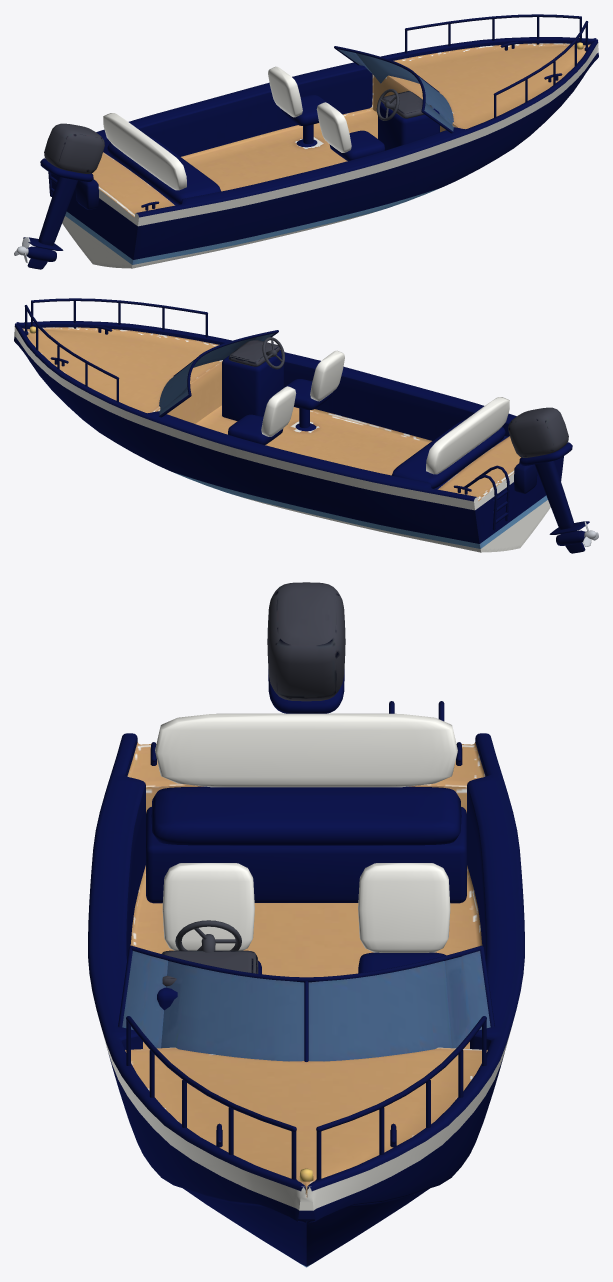
File: lancha-mestra-198-2015.glb
3 views of the same model, one above another, from view 1: azimuth 30°, elevation 25°; view 2: azimuth 150°, elevation 25°; view 3: azimuth 270°, elevation 25° (orthographic). The views are drawn at different scales.
Visible parts, largest first — view 1: motorboat_body, motorboat_steering_wheel; view 2: motorboat_body, motorboat_steering_wheel; view 3: motorboat_body, motorboat_steering_wheel.
Boxes of the visible parts, x1,y1,x2,y2 form: motorboat_body: [23, 14, 598, 269]; motorboat_steering_wheel: [376, 89, 399, 120]; motorboat_body: [14, 298, 589, 553]; motorboat_steering_wheel: [262, 337, 284, 369]; motorboat_body: [88, 582, 524, 1267]; motorboat_steering_wheel: [175, 920, 241, 952].
Size of the model in its own units: 6.03 by 1.47 by 1.97.
Materials: 3 (1 with a texture image).
